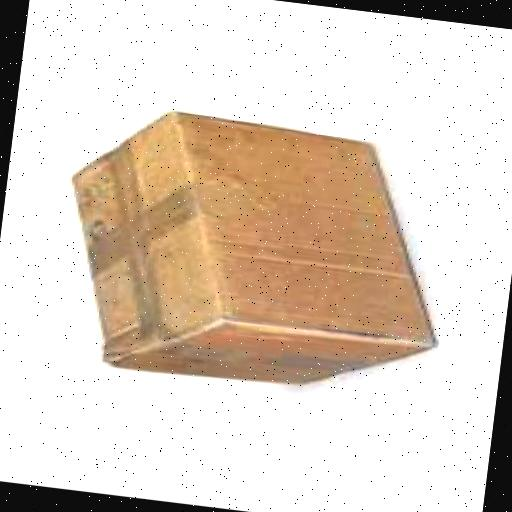cardboard: (47, 100, 460, 406)
